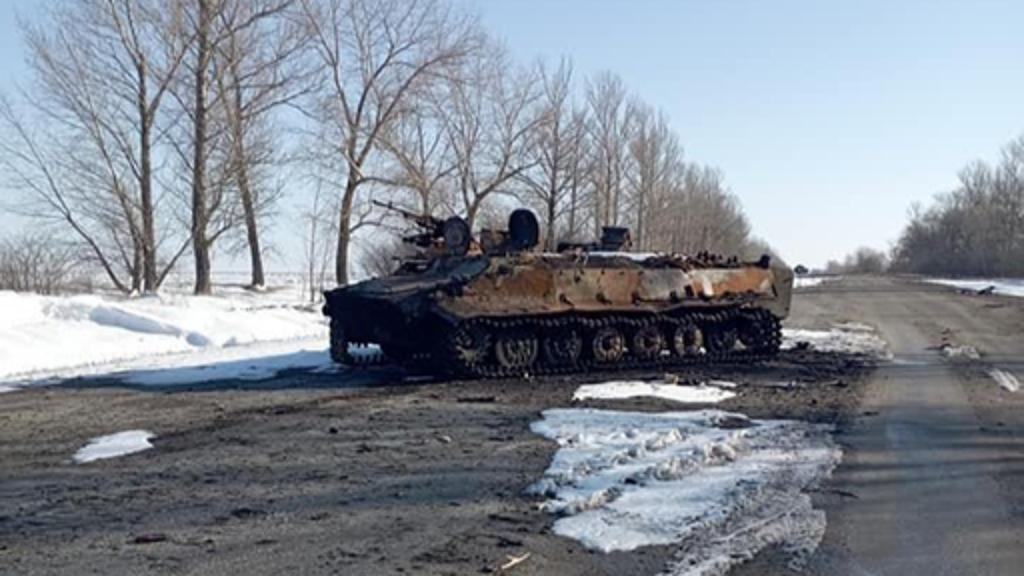APC-IFV: (316, 192, 796, 376)
